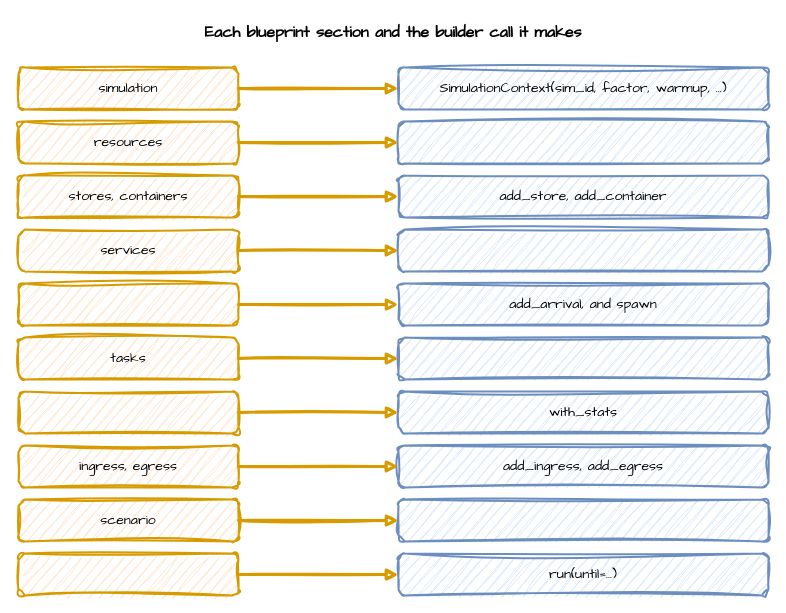
This 786x613 diagram has some shape labels left out. Here are the shapes that lost their labels. From the top down, the centre of each, then its label:
At pixel 583 142: "add_resource".
At pixel 583 250: "add_service".
At pixel 128 304: "arrivals".
At pixel 583 358: "@app.task, with get, put, next, set".
At pixel 128 412: "stats".
At pixel 583 520: "registry updates and labels at set times".
At pixel 128 574: "run".
